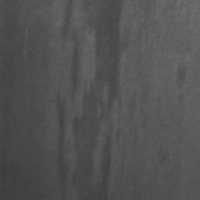inclusion: (50, 0, 128, 199), (167, 61, 192, 109)
